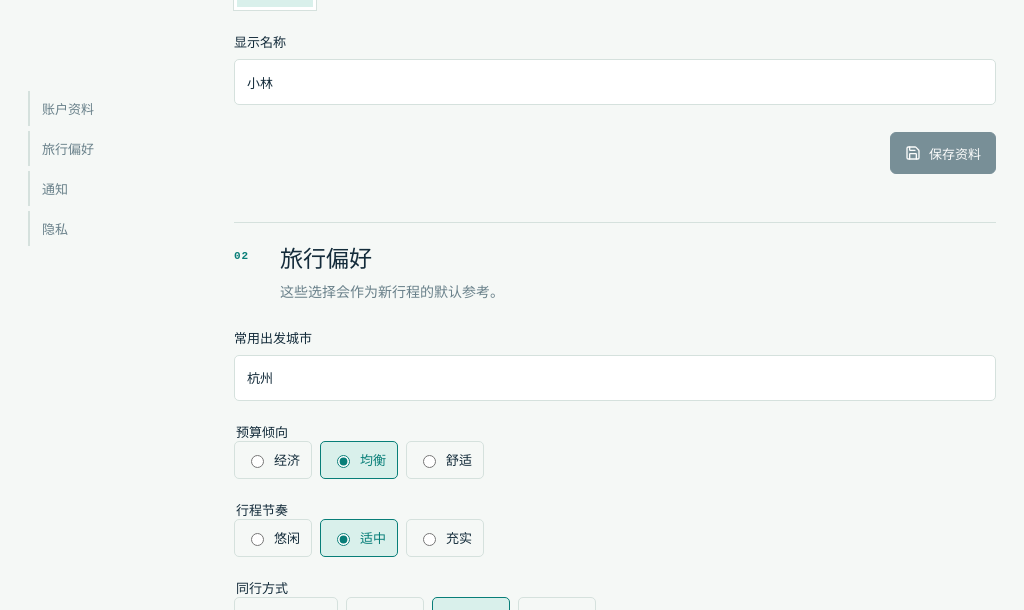
Test: SettingsPage › saves only the edited travel section as a partial settings update
(page scrolled)
Replace the text in the field named "departure-city" with "上海" at (615, 378), box 234,355 -> 996,401
(page scrolled)
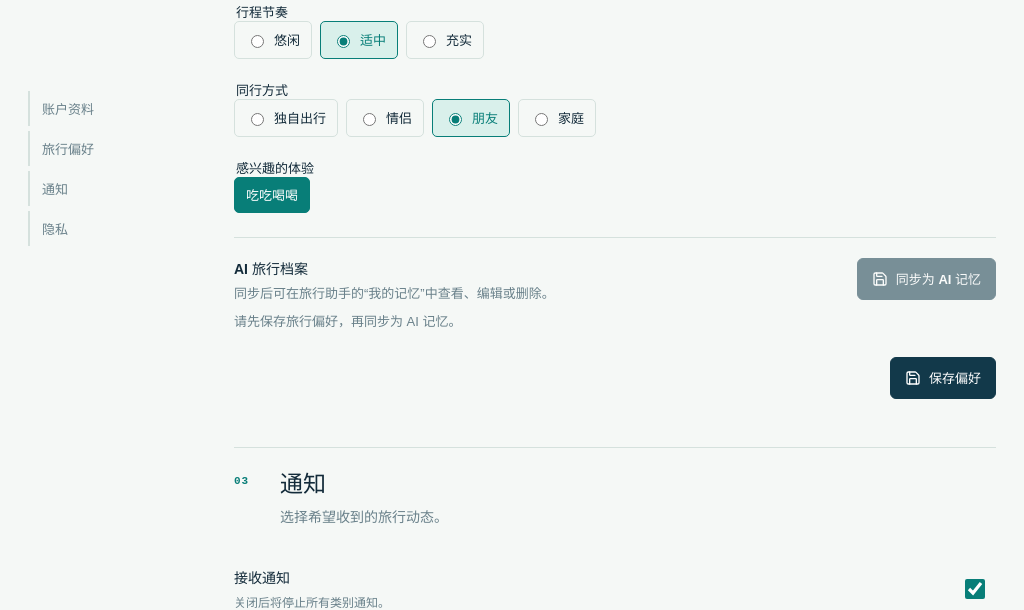
Click the button with test id "save-travel" at (943, 378), box 890,357 -> 996,399
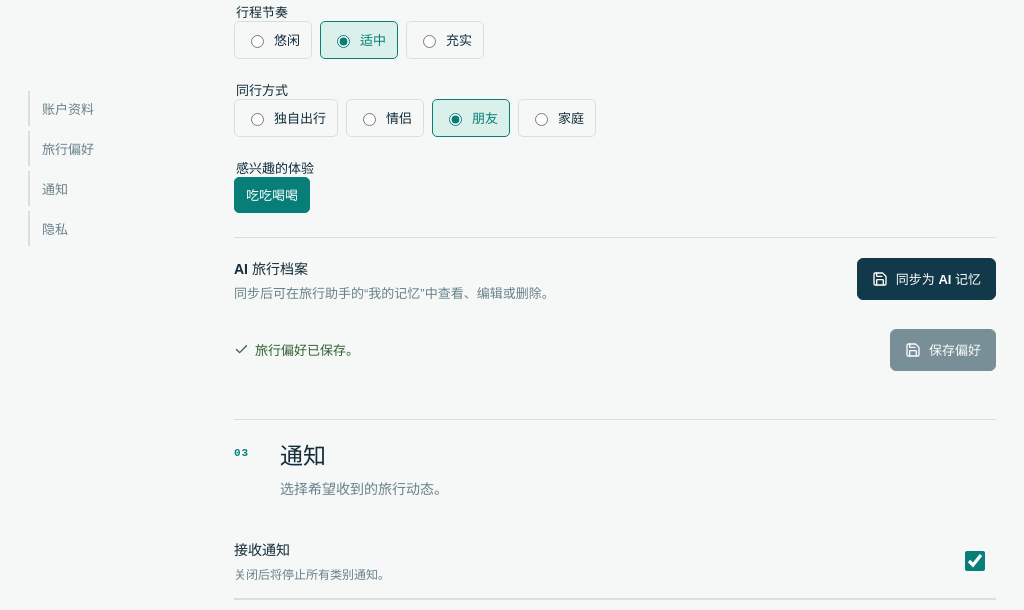
Result: the text "旅行偏好已保存。" is shown at 234,340 -> 359,360
